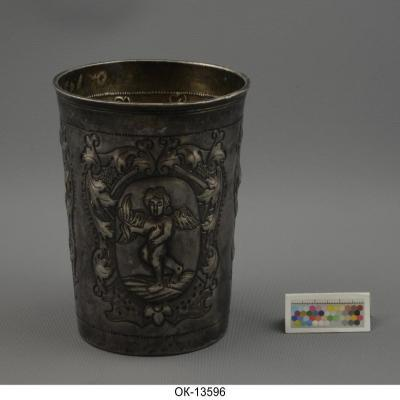dpi: (52, 61, 250, 359)
